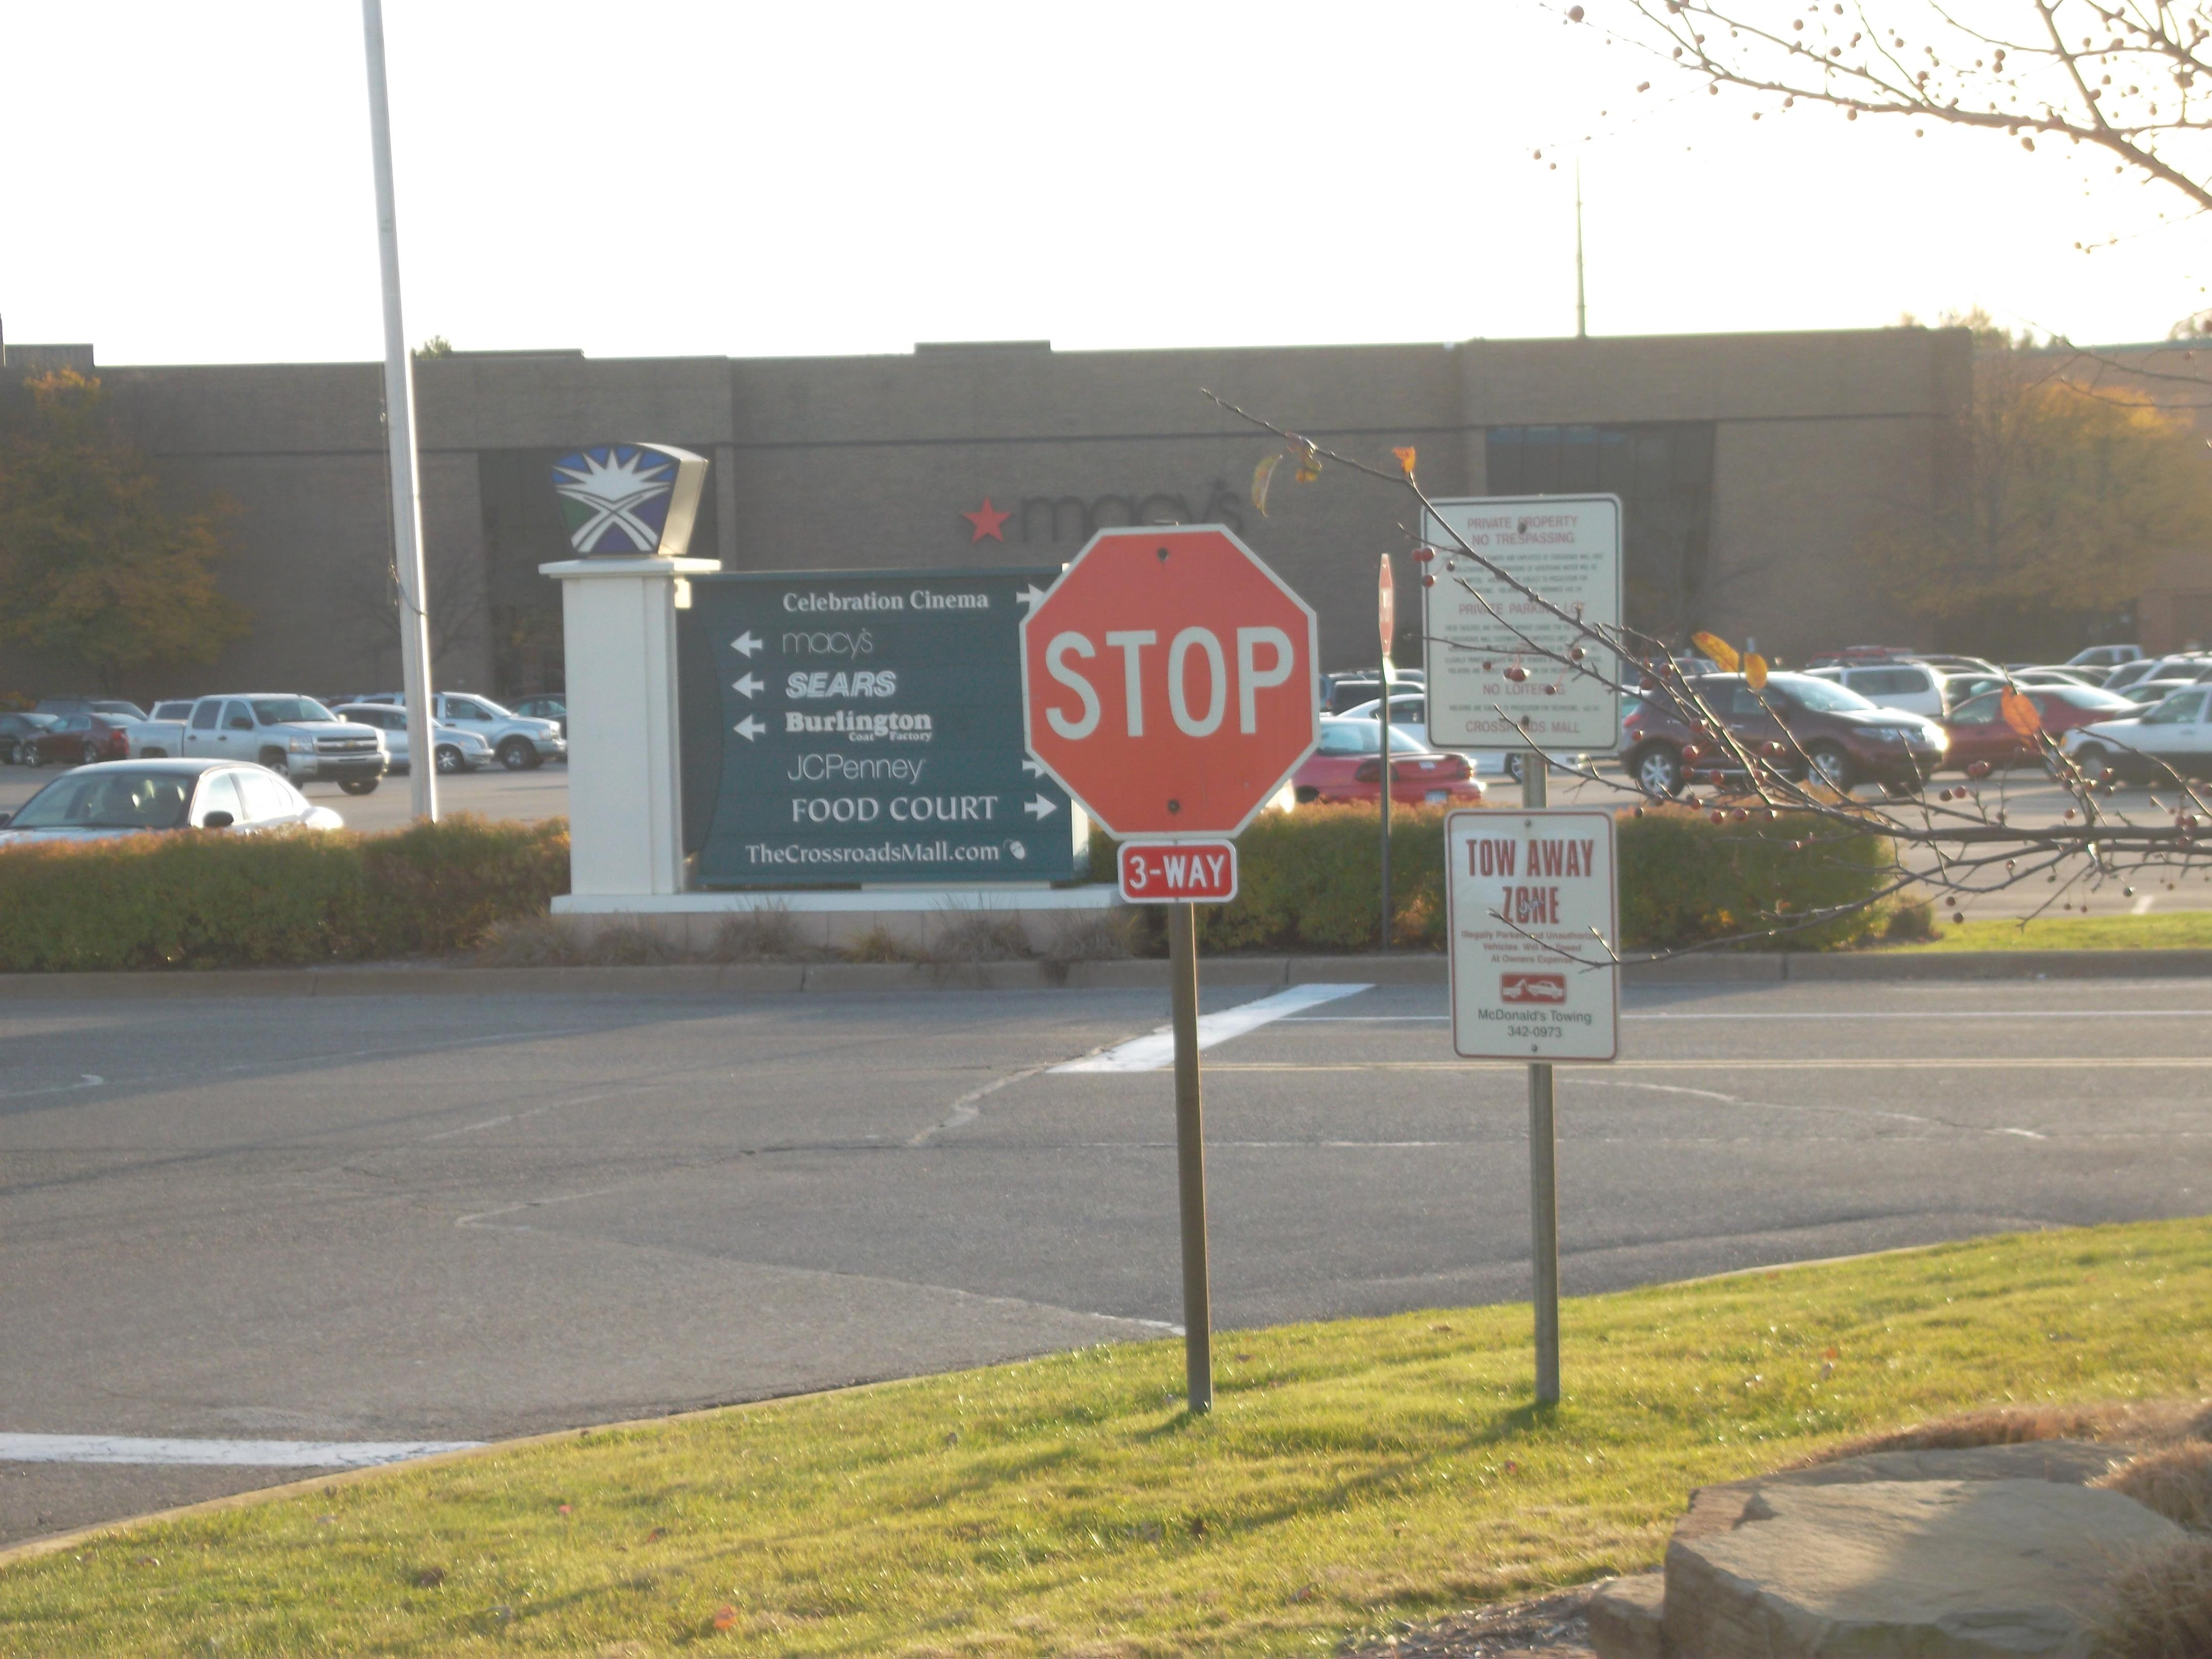stop: (1003, 502, 1327, 856)
